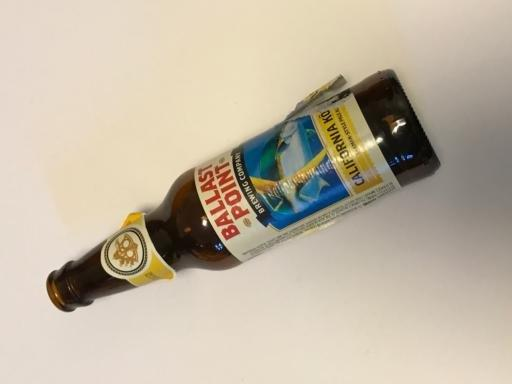botolkaca: (47, 69, 442, 313)
